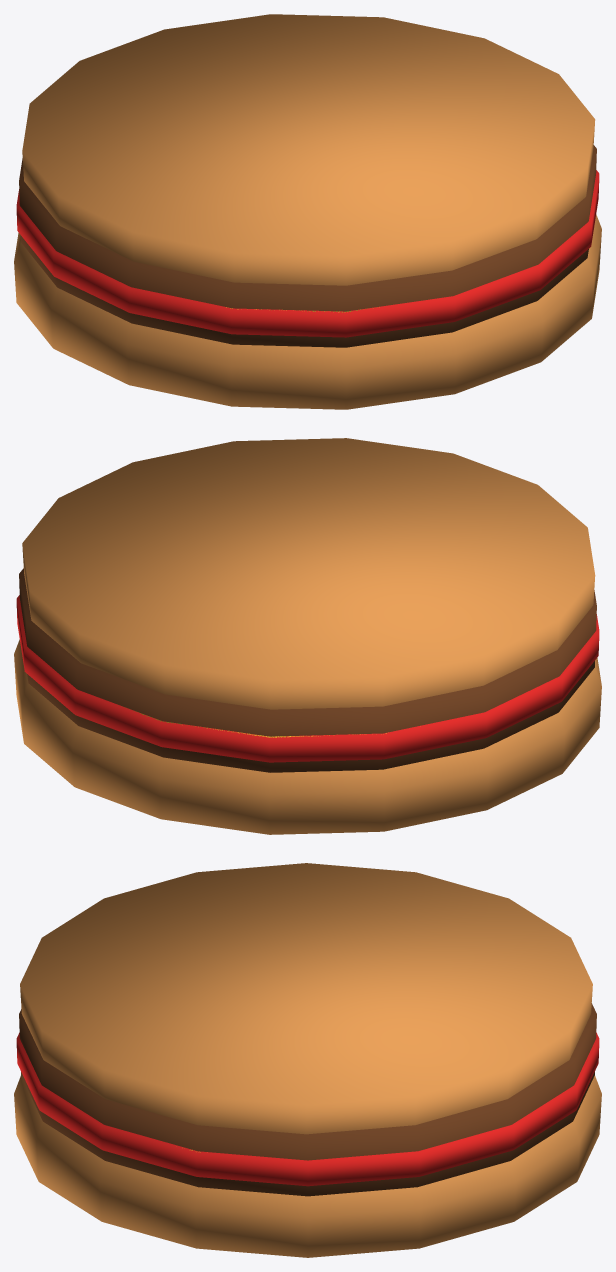
Rendered from burger.glb.
The picture shows the model from 3 angles, top to bottom: view 1: azimuth 30°, elevation 25°; view 2: azimuth 150°, elevation 25°; view 3: azimuth 270°, elevation 25°; orthographic projection.
Parts seen in each view (by area): view 1: bottom_bun, top_bun, patty, tomato; view 2: bottom_bun, top_bun, patty, tomato; view 3: bottom_bun, top_bun, patty, tomato.
Boxes of the visible parts, x1,y1,x2,y2 form: bottom_bun: (22, 14, 595, 285); top_bun: (14, 214, 601, 409); patty: (19, 145, 596, 347); tomato: (16, 170, 599, 337); bottom_bun: (22, 438, 595, 709); top_bun: (14, 639, 601, 834); patty: (19, 568, 596, 772); tomato: (16, 595, 599, 762); bottom_bun: (20, 863, 592, 1134); top_bun: (14, 1075, 601, 1257); patty: (19, 1003, 596, 1196); tomato: (16, 1032, 599, 1186).
Bounding box in the file's own units: 0.6374 × 0.1802 × 0.6374.
